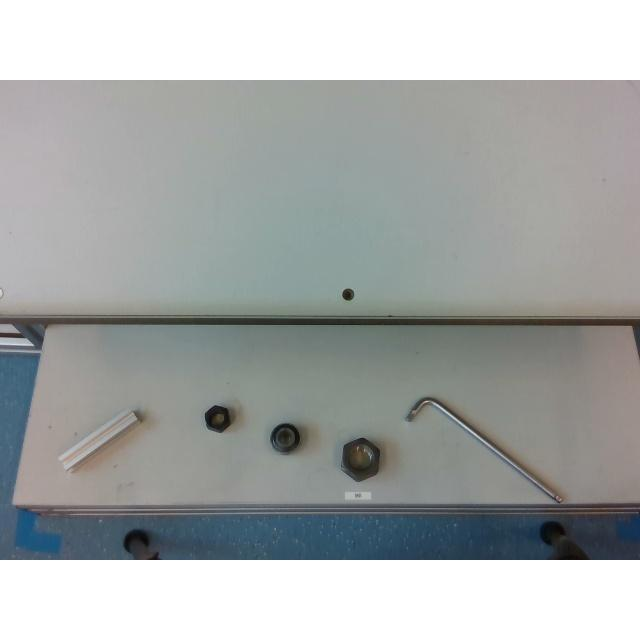AllenKey: (405, 397, 563, 503)
Bearing2: (270, 423, 300, 453)
F20_20_G: (59, 410, 138, 470)
M20: (204, 404, 232, 432)
M30: (340, 437, 380, 481)
